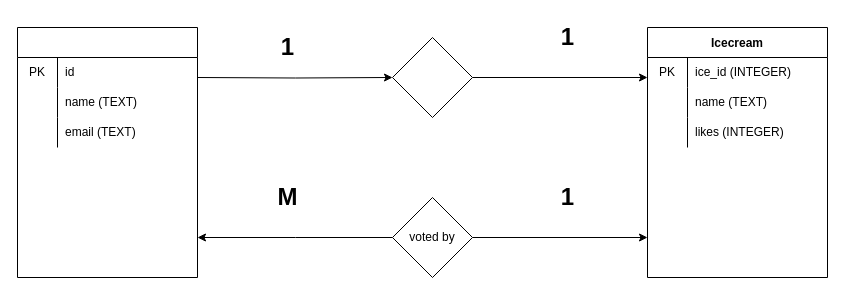
Some shapes in this 845 by 295 pixel diagram are drawn without their labels. The box of each missing label's shape, as (x1, y1, x2, y2) in pixels:
User: (16, 26, 198, 278)
votes: (392, 36, 472, 118)
